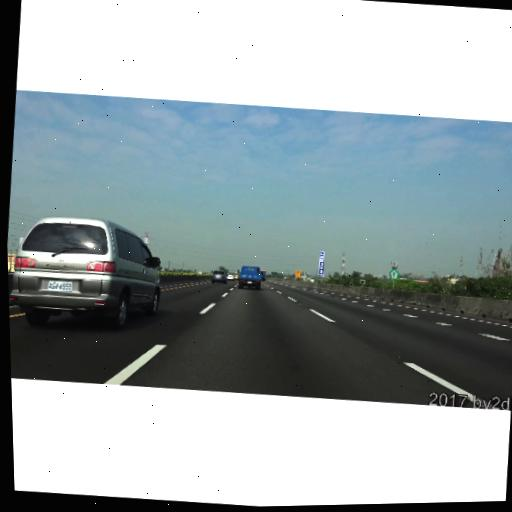Car: (6, 212, 167, 338), (237, 264, 263, 291), (210, 270, 228, 285), (226, 272, 236, 282)
